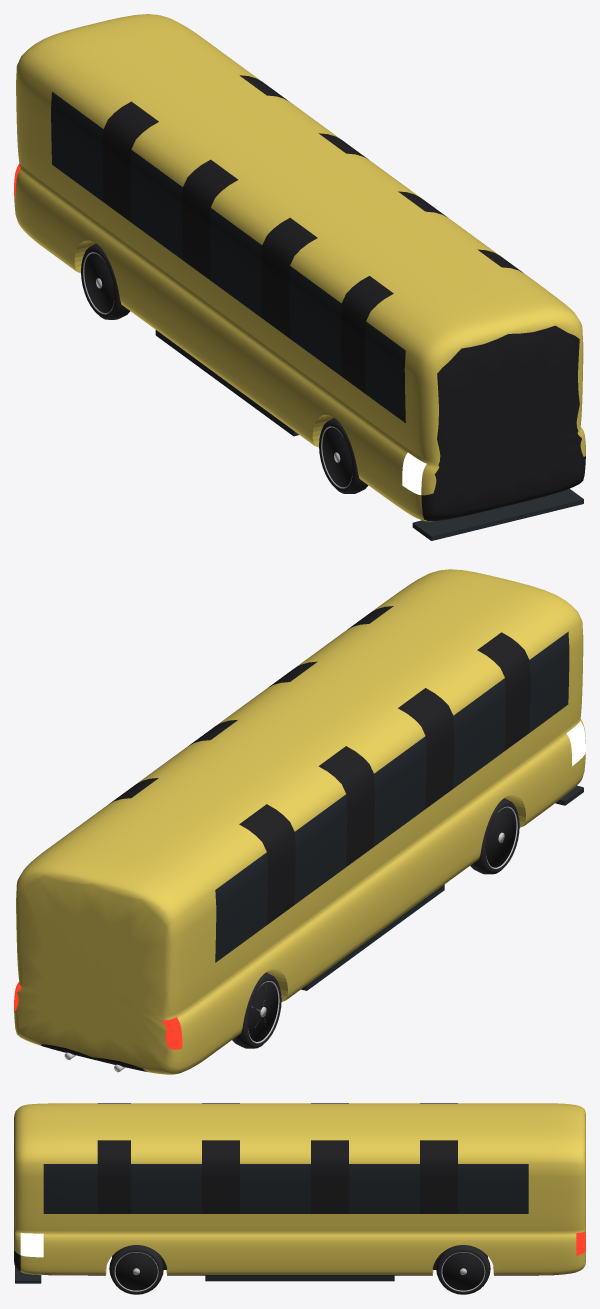
The model's file is traffic_bus.glb.
3 views of the same model, one above another, from view 1: azimuth 30°, elevation 25°; view 2: azimuth 150°, elevation 25°; view 3: azimuth 270°, elevation 25° (orthographic). The views are drawn at different scales.
Parts seen in each view (by area): view 1: Body, WheelMesh_Wheel_Rear_R, WheelMesh_Wheel_Front_R; view 2: Body, WheelMesh_Wheel_Front_R, WheelMesh_Wheel_Rear_R; view 3: Body, WheelMesh_Wheel_Front_L, WheelMesh_Wheel_Rear_L.
Part boxes in pixels (x1,y1,x2,y2): Body: (14,14,585,540); WheelMesh_Wheel_Rear_R: (81,243,130,319); WheelMesh_Wheel_Front_R: (319,418,368,493); Body: (14,569,585,1074); WheelMesh_Wheel_Front_R: (470,798,519,874); WheelMesh_Wheel_Rear_R: (232,972,281,1048); Body: (14,1103,585,1283); WheelMesh_Wheel_Front_L: (109,1245,163,1294); WheelMesh_Wheel_Rear_L: (436,1245,490,1294).
Size of the model in its own units: 2.48 by 3.02 by 10.5.
